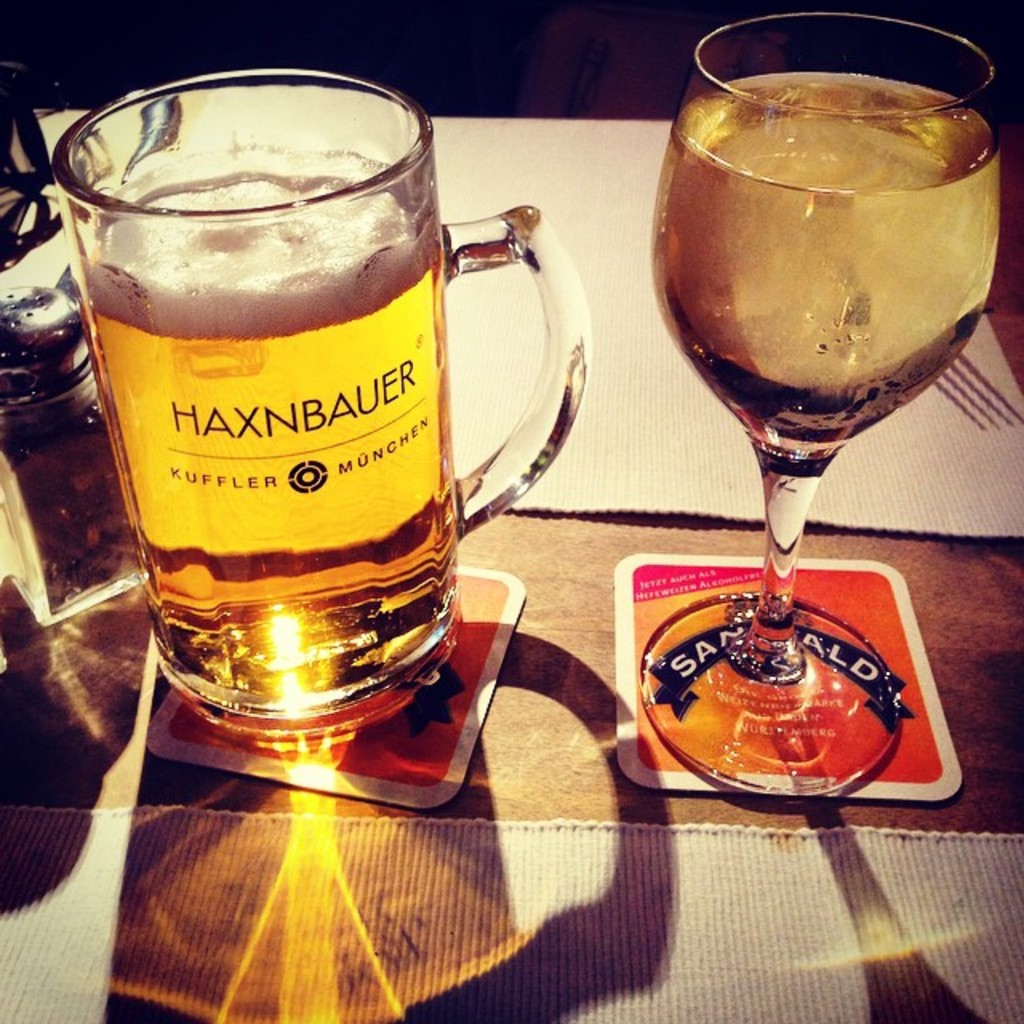Beer: (54, 52, 585, 755), (640, 20, 1020, 806)
